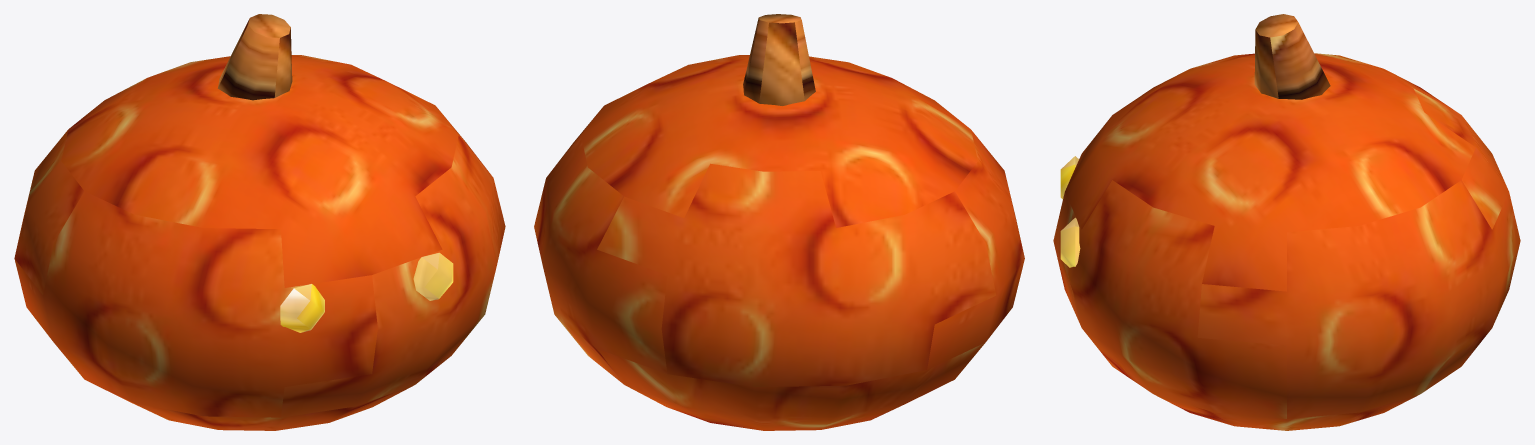
The model's file is deco_sombrio_flora.glb.
The picture shows the model from 3 angles, left to right: view 1: azimuth 30°, elevation 25°; view 2: azimuth 150°, elevation 25°; view 3: azimuth 270°, elevation 25°; orthographic projection.
Visible parts, largest first — view 1: deco_sombrio_flora; view 2: deco_sombrio_flora; view 3: deco_sombrio_flora.
Part boxes in pixels (x1=…): deco_sombrio_flora: x1=14, y1=14, x2=505, y2=430; deco_sombrio_flora: x1=534, y1=14, x2=1024, y2=430; deco_sombrio_flora: x1=1053, y1=14, x2=1520, y2=430.
Bounding box in the file's own units: 1 × 0.8453 × 0.9412.
Materials: 3 (3 with a texture image).
